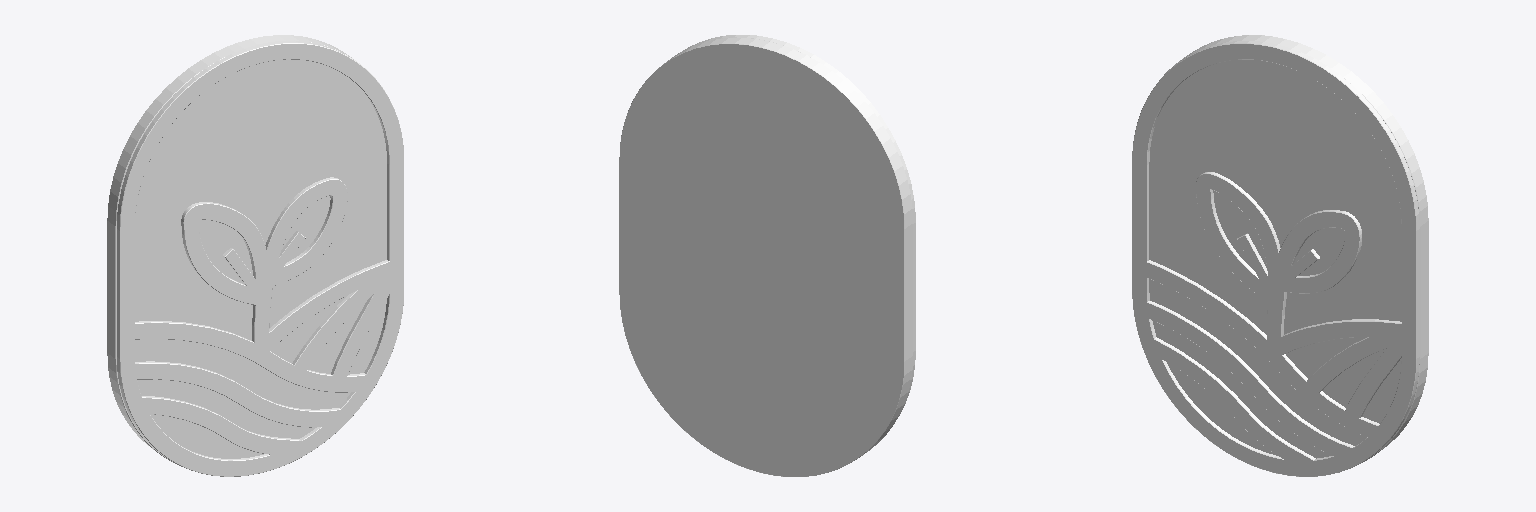
3 views of the same model, side by side, from view 1: azimuth 30°, elevation 25°; view 2: azimuth 150°, elevation 25°; view 3: azimuth 330°, elevation 25° (orthographic).
Parts seen in each view (by area): view 1: 封顶_1_1, 封顶_1_2, 1, 3, 平滑_1_2; view 2: 封顶_2, 3, 1, 平滑_2; view 3: 封顶_1_1, 封顶_1_2, 1, 3, 平滑_1_2.
Part boxes in pixels (x1,y1,x2,y2): 封顶_1_1: (135, 59, 386, 458); 封顶_1_2: (120, 44, 403, 476); 1: (117, 40, 388, 460); 3: (107, 35, 351, 449); 平滑_1_2: (120, 43, 403, 476); 封顶_2: (620, 44, 903, 476); 3: (667, 37, 912, 455); 1: (678, 35, 915, 415); 平滑_2: (619, 44, 904, 476); 封顶_1_1: (1149, 60, 1401, 458); 封顶_1_2: (1132, 44, 1415, 476); 1: (1147, 41, 1419, 459); 3: (1184, 35, 1428, 449); 平滑_1_2: (1132, 43, 1416, 476).
Size of the model in its own units: 179 by 256 by 13.15.